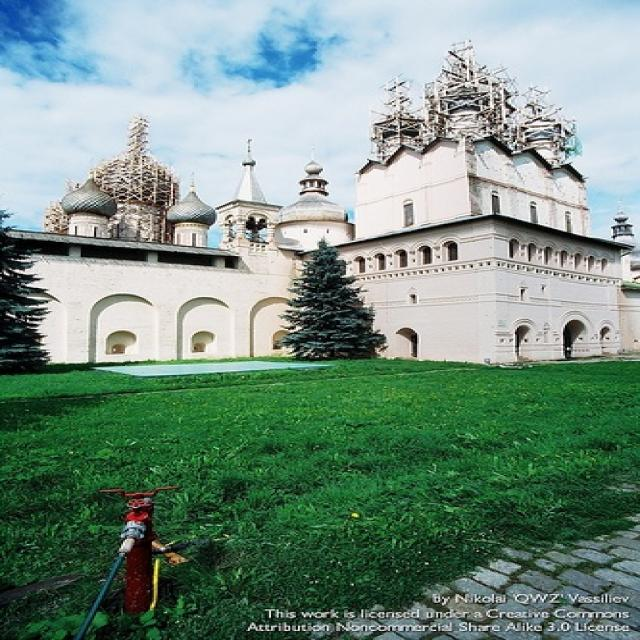fire_hydrant: (98, 485, 175, 613)
